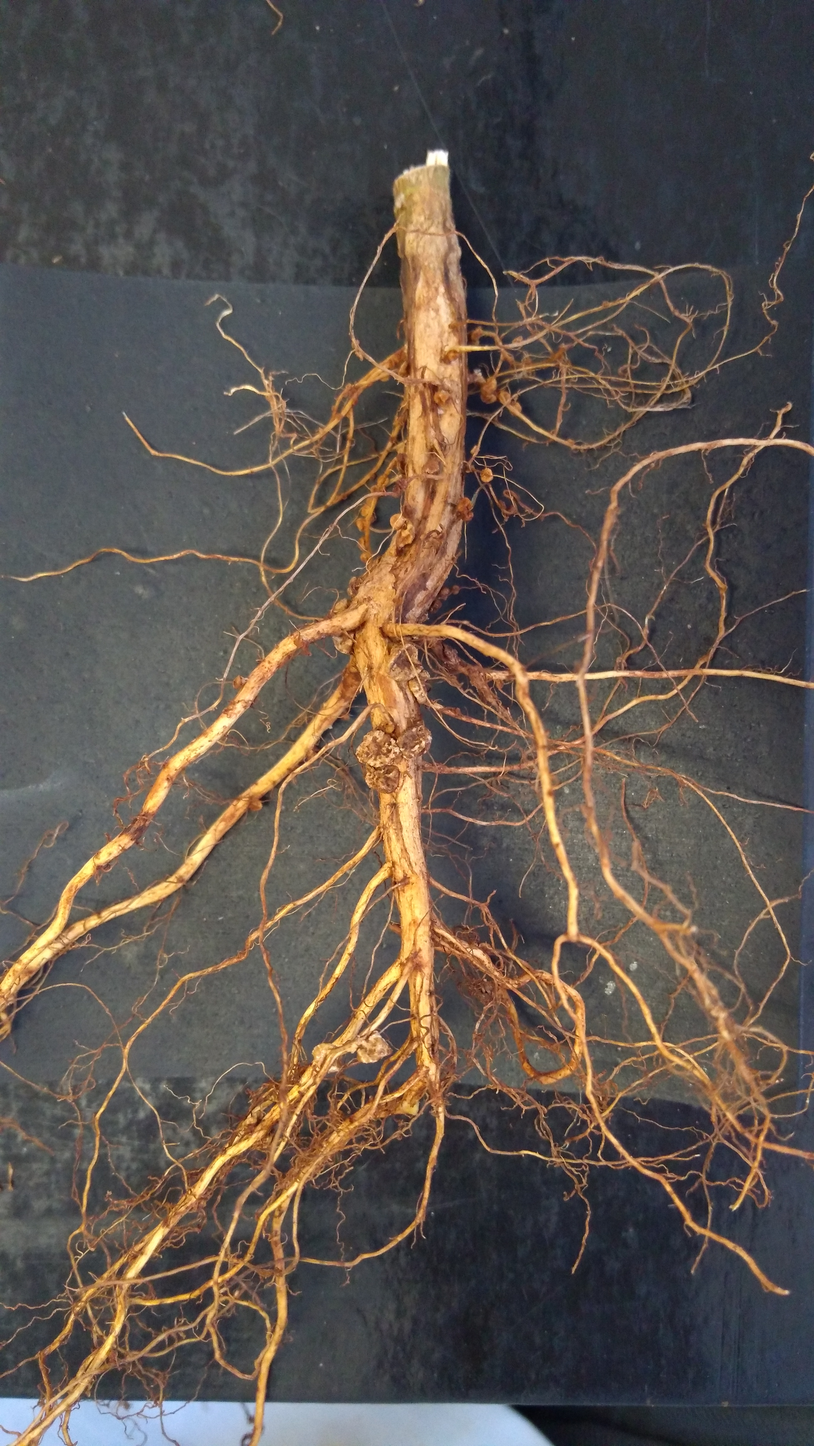nodule: (352, 729, 404, 769), (328, 598, 358, 659), (395, 722, 439, 761), (385, 640, 424, 683), (355, 1028, 394, 1065), (362, 764, 406, 795), (310, 1040, 343, 1078), (365, 703, 398, 738), (453, 492, 480, 531), (393, 521, 423, 555), (406, 678, 429, 709), (479, 375, 499, 409), (441, 642, 461, 666), (419, 458, 442, 478), (385, 513, 409, 532), (358, 502, 377, 525), (478, 465, 498, 486), (229, 673, 251, 692), (345, 574, 363, 597), (468, 325, 485, 349), (434, 390, 453, 408), (426, 597, 444, 616), (414, 666, 432, 684), (355, 533, 370, 554), (497, 389, 512, 408), (246, 798, 263, 813), (438, 584, 452, 602), (511, 334, 525, 351), (446, 349, 460, 362), (355, 517, 366, 533), (375, 475, 392, 485), (359, 551, 372, 564), (354, 350, 366, 364), (451, 583, 461, 599), (369, 483, 379, 496), (512, 401, 523, 412), (351, 338, 361, 350), (470, 445, 479, 457), (567, 437, 575, 446)
